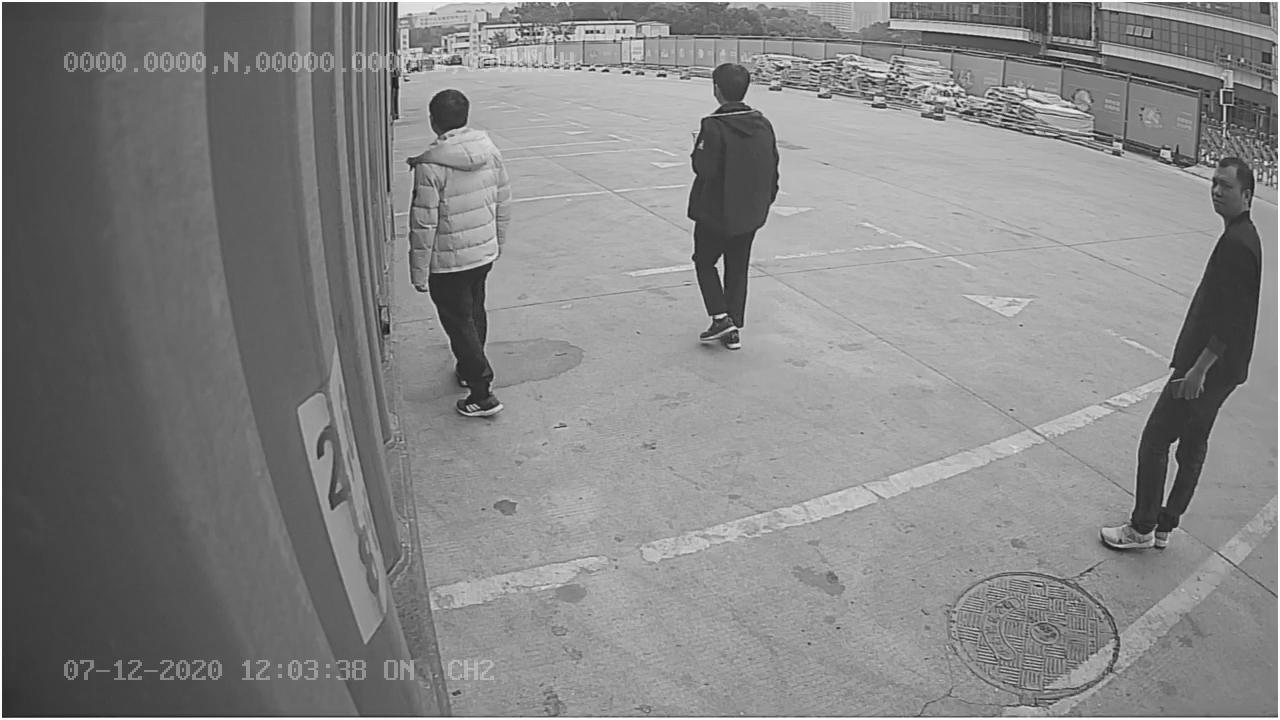person: (1098, 138, 1263, 562), (408, 86, 517, 422), (679, 56, 782, 351)
